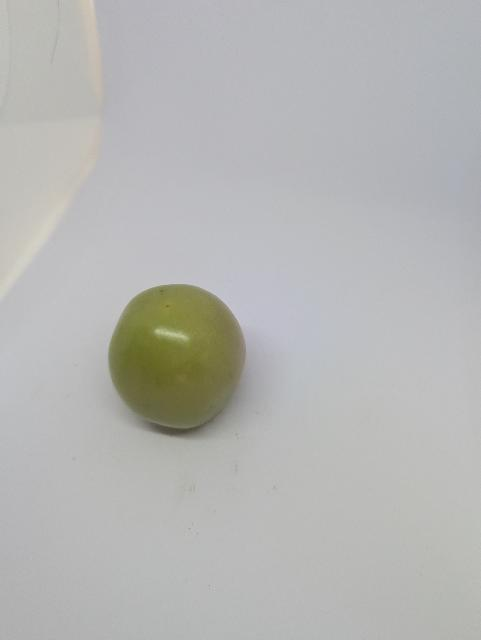green: (98, 271, 252, 449)
